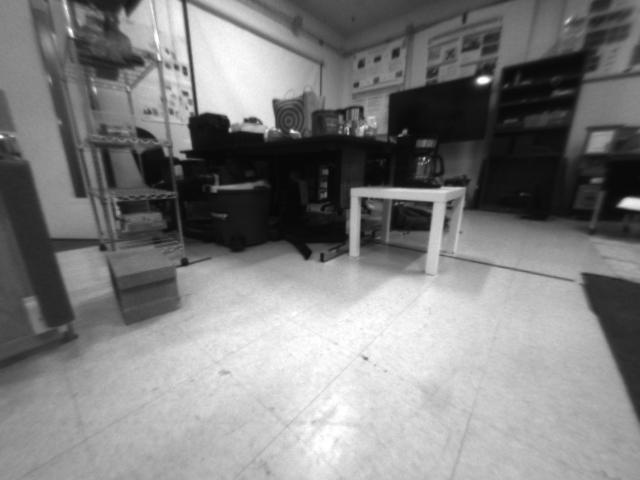coffee_pot: (393, 134, 449, 190)
